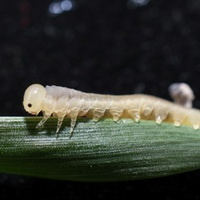insect: (23, 84, 199, 137)
